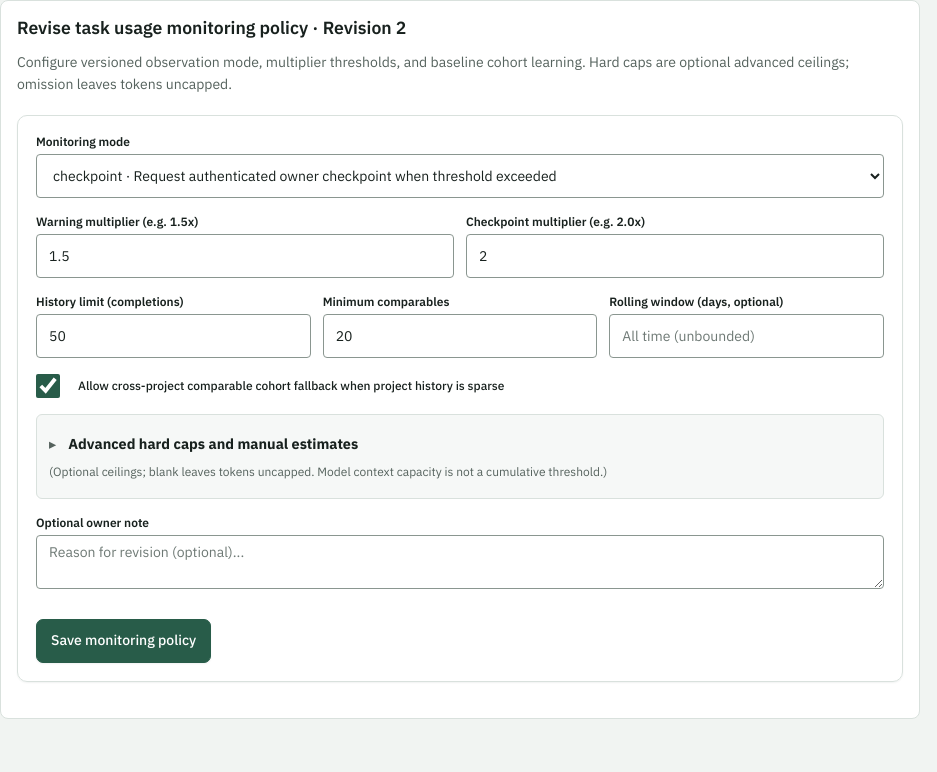
Scenario: MonitoringPolicySummary and MonitoringPolicyEditor › MonitoringPolicyEditor › validates that checkpoint multiplier cannot precede warning multiplier
Step 1. Replace the text in the number field labelled "Checkpoint multiplier (e.g. 2.0x)" with "1.2" → (675, 256), box [466, 234, 884, 278]
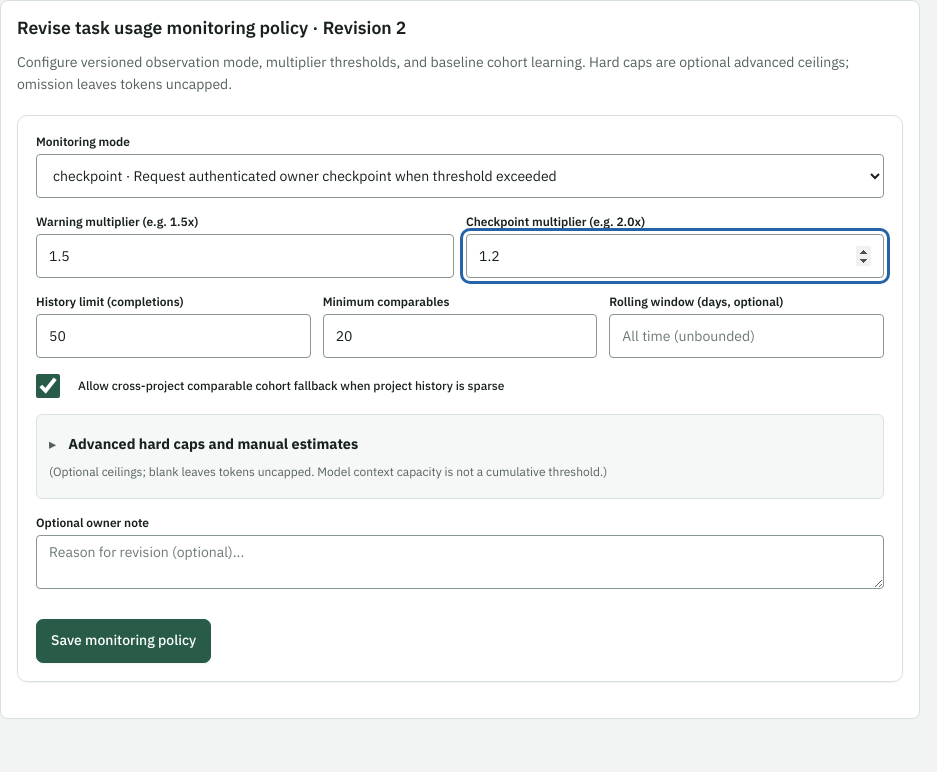
Step 2. Click the button "Save monitoring policy" → (124, 641), box [36, 619, 211, 663]
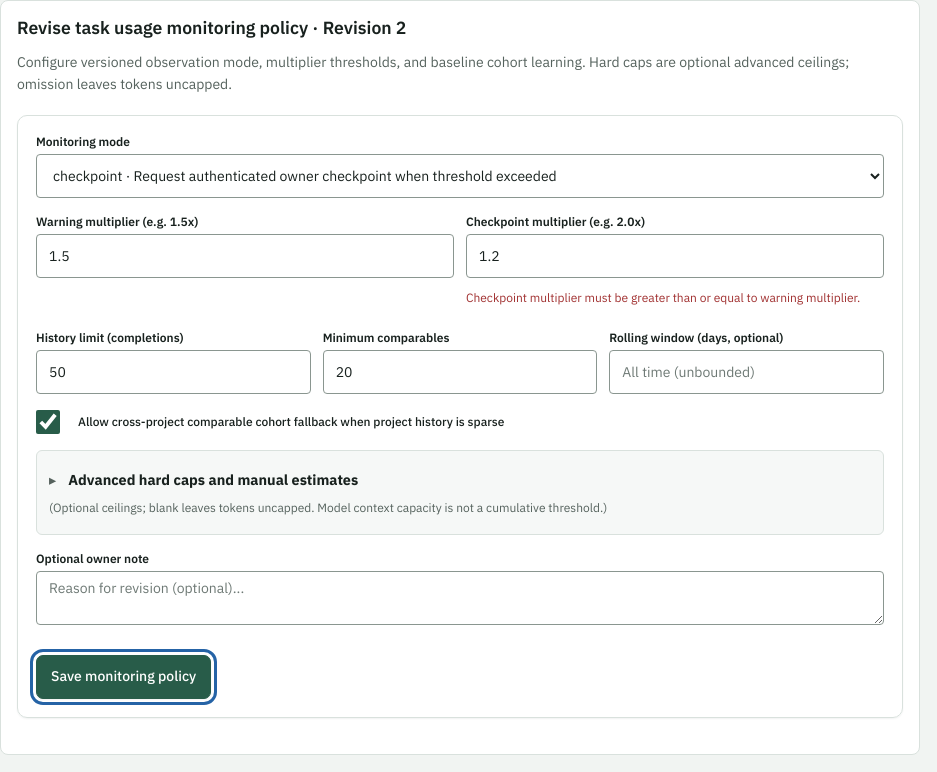
Now the text "Checkpoint multiplier must be greater than or equal to warning multiplier." is shown, box [466, 290, 884, 306]
